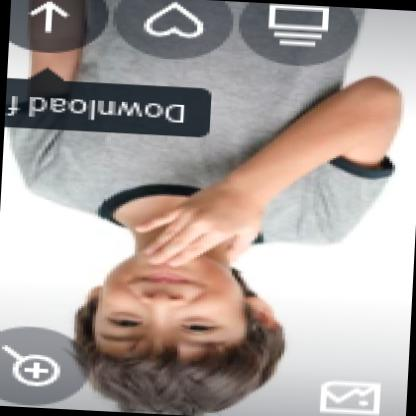thankyou: (124, 179, 266, 289)
